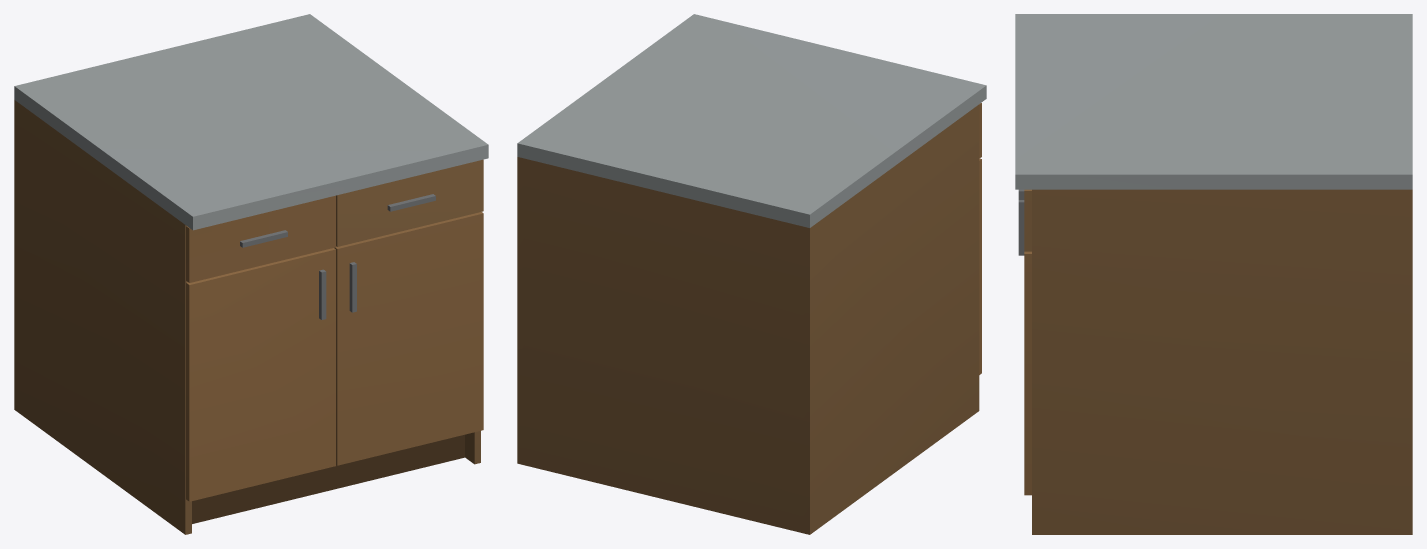
File: cabinet.kitchen.oak.glb
3 renders of one model, left to right at view 1: azimuth 30°, elevation 25°; view 2: azimuth 150°, elevation 25°; view 3: azimuth 270°, elevation 25°, orthographic. The views are drawn at different scales.
Parts seen in each view (by area): view 1: cabinet_kitchen_oak; view 2: cabinet_kitchen_oak; view 3: cabinet_kitchen_oak.
Boxes of the visible parts, x1,y1,x2,y2 form: cabinet_kitchen_oak: (14, 14, 488, 534); cabinet_kitchen_oak: (517, 14, 986, 534); cabinet_kitchen_oak: (1015, 14, 1412, 534).
Size of what is drawn, in the model's own units: 0.908 by 0.95 by 0.95.
